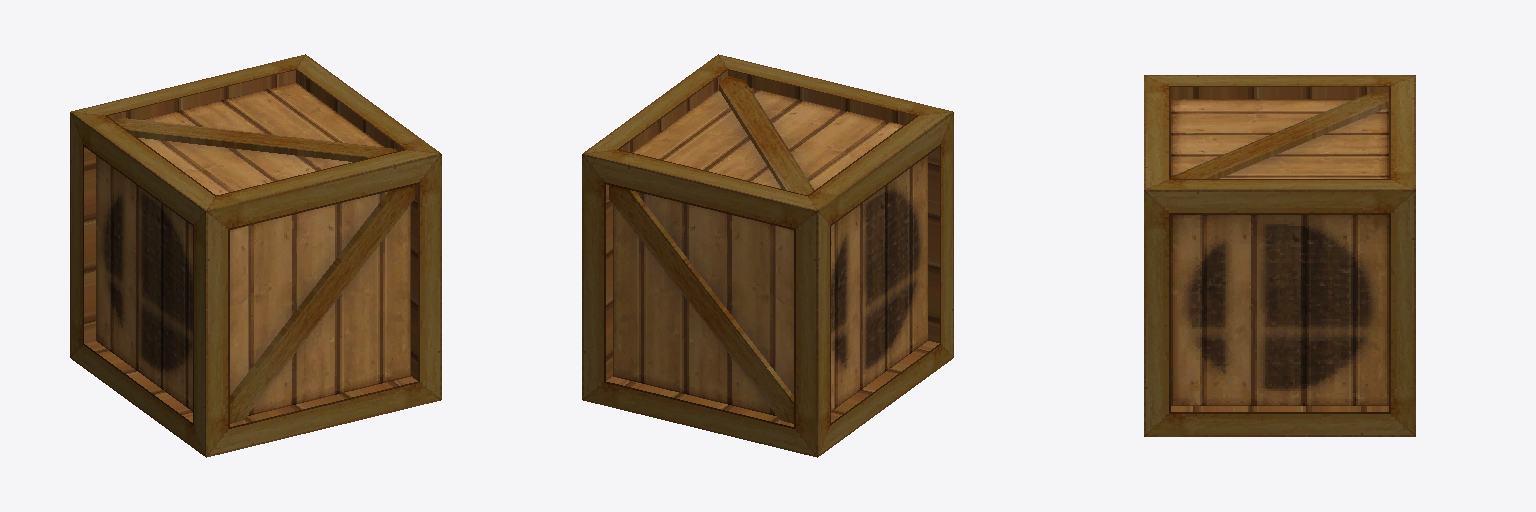
3 views of the same model, side by side, from view 1: azimuth 30°, elevation 25°; view 2: azimuth 150°, elevation 25°; view 3: azimuth 270°, elevation 25° (orthographic).
Parts seen in each view (by area): view 1: polygon1, polygon0, polygon3, polygon2; view 2: polygon1, polygon0, polygon3, polygon2; view 3: polygon3, polygon1, polygon0, polygon2.
Boxes of the visible parts, box(x1,y1,x2,y2) form: polygon1: box(70, 54, 441, 457); polygon0: box(138, 82, 410, 416); polygon3: box(96, 156, 192, 411); polygon2: box(114, 118, 414, 423); polygon1: box(582, 54, 953, 457); polygon0: box(613, 87, 903, 416); polygon3: box(831, 156, 927, 411); polygon2: box(609, 76, 814, 423); polygon3: box(1171, 215, 1388, 405); polygon1: box(1144, 75, 1415, 436); polygon0: box(1171, 99, 1388, 178); polygon2: box(1171, 93, 1388, 178).
Bounding box in the file's own units: 15 × 15 × 15.
1 materials, 1 textured.